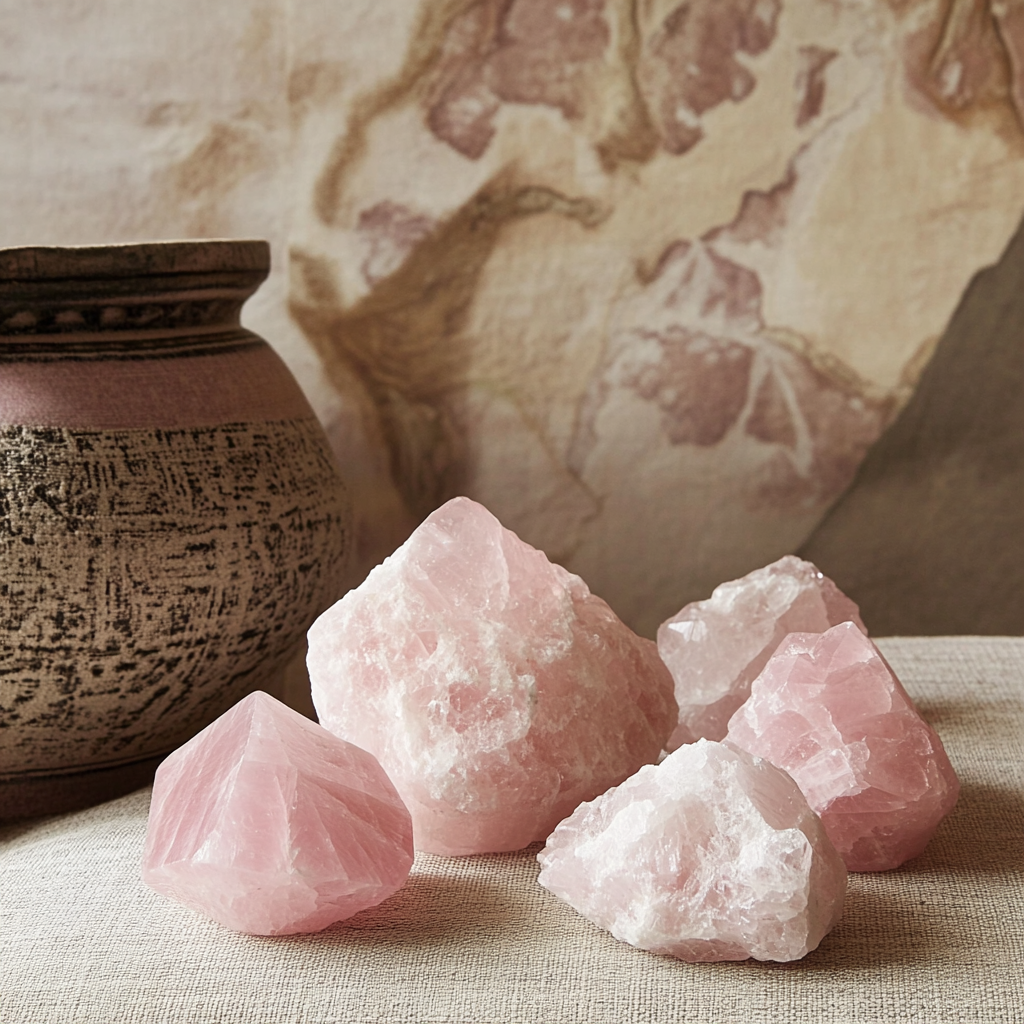Rose_Quartz: (534, 732, 862, 975), (125, 690, 440, 941)
